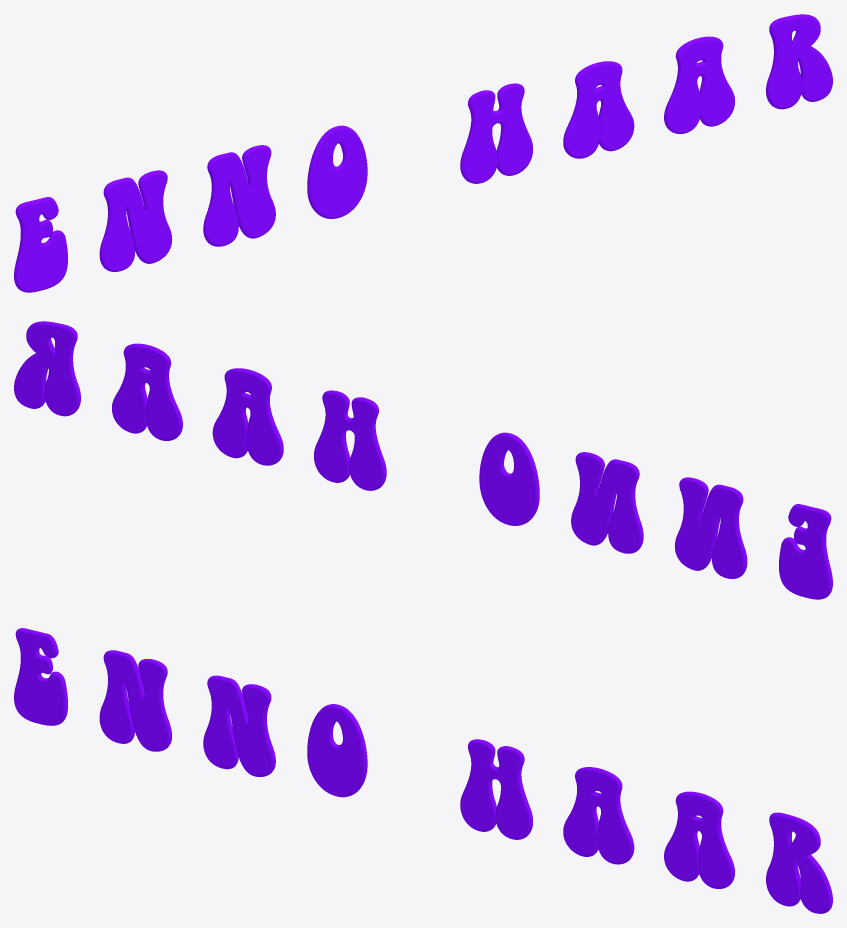
The model's file is enno3.glb.
3 views of the same model, one above another, from view 1: azimuth 30°, elevation 25°; view 2: azimuth 150°, elevation 25°; view 3: azimuth 330°, elevation 25° (orthographic).
Visible parts, largest first — view 1: Text; view 2: Text; view 3: Text.
Boxes of the visible parts, <box> form: Text: <box>14,14,832,292</box>; Text: <box>14,321,832,599</box>; Text: <box>14,628,832,913</box>.
Size of the model in its own units: 6.27 by 0.669 by 0.04.
